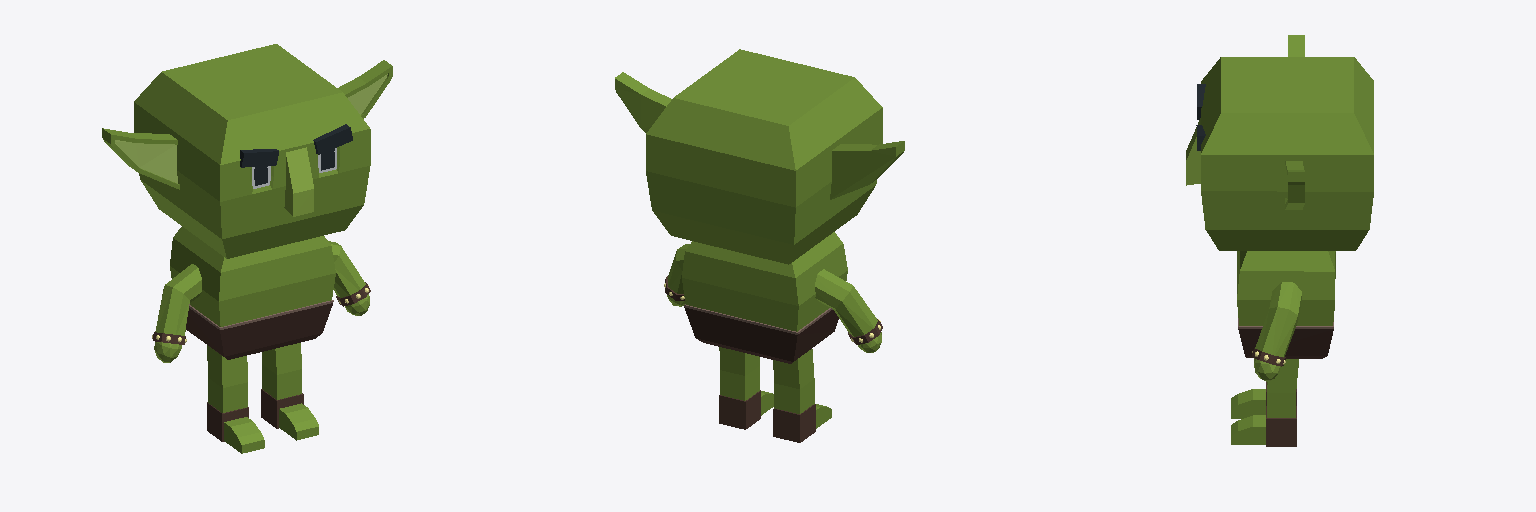
The picture shows the model from 3 angles: view 1: azimuth 30°, elevation 25°; view 2: azimuth 150°, elevation 25°; view 3: azimuth 270°, elevation 25°; orthographic projection.
Visible parts, largest first — view 1: Cube.061, Cube.062, Cube.063, Cube.066, Cylinder.018, Cube.065, Cube.064, Cube.067, Icosphere.023, bracelet.001; view 2: Cube.061, Cube.062, Cube.063, Cube.066, Cylinder.018, Cube.065; view 3: Cube.061, Cube.062, Cube.063, Cylinder.018, Cube.065, Cube.066, Cube.064.
Boxes of the visible parts, x1=… form: Cube.061: x1=134, y1=44, x2=370, y2=258; Cube.062: x1=170, y1=226, x2=335, y2=359; Cube.063: x1=207, y1=343, x2=303, y2=441; Cube.066: x1=102, y1=60, x2=392, y2=189; Cylinder.018: x1=155, y1=241, x2=365, y2=335; Cube.065: x1=224, y1=403, x2=318, y2=453; Cube.064: x1=284, y1=147, x2=313, y2=216; Cube.067: x1=240, y1=124, x2=352, y2=167; Icosphere.023: x1=154, y1=294, x2=369, y2=362; bracelet.001: x1=152, y1=282, x2=370, y2=344; Cube.061: x1=646, y1=49, x2=882, y2=264; Cube.062: x1=682, y1=232, x2=847, y2=363; Cube.063: x1=719, y1=347, x2=815, y2=442; Cube.066: x1=615, y1=72, x2=904, y2=199; Cylinder.018: x1=667, y1=244, x2=877, y2=336; Cube.065: x1=761, y1=391, x2=831, y2=428; Cube.061: x1=1201, y1=57, x2=1373, y2=250; Cube.062: x1=1237, y1=251, x2=1335, y2=358; Cube.063: x1=1266, y1=359, x2=1298, y2=446; Cylinder.018: x1=1255, y1=282, x2=1301, y2=357; Cube.065: x1=1231, y1=389, x2=1265, y2=444; Cube.066: x1=1285, y1=35, x2=1304, y2=209; Cube.064: x1=1186, y1=118, x2=1200, y2=185.
Bounding box in the file's own units: 4.07 × 4.73 × 2.36.
Materials: 1 (1 with a texture image).